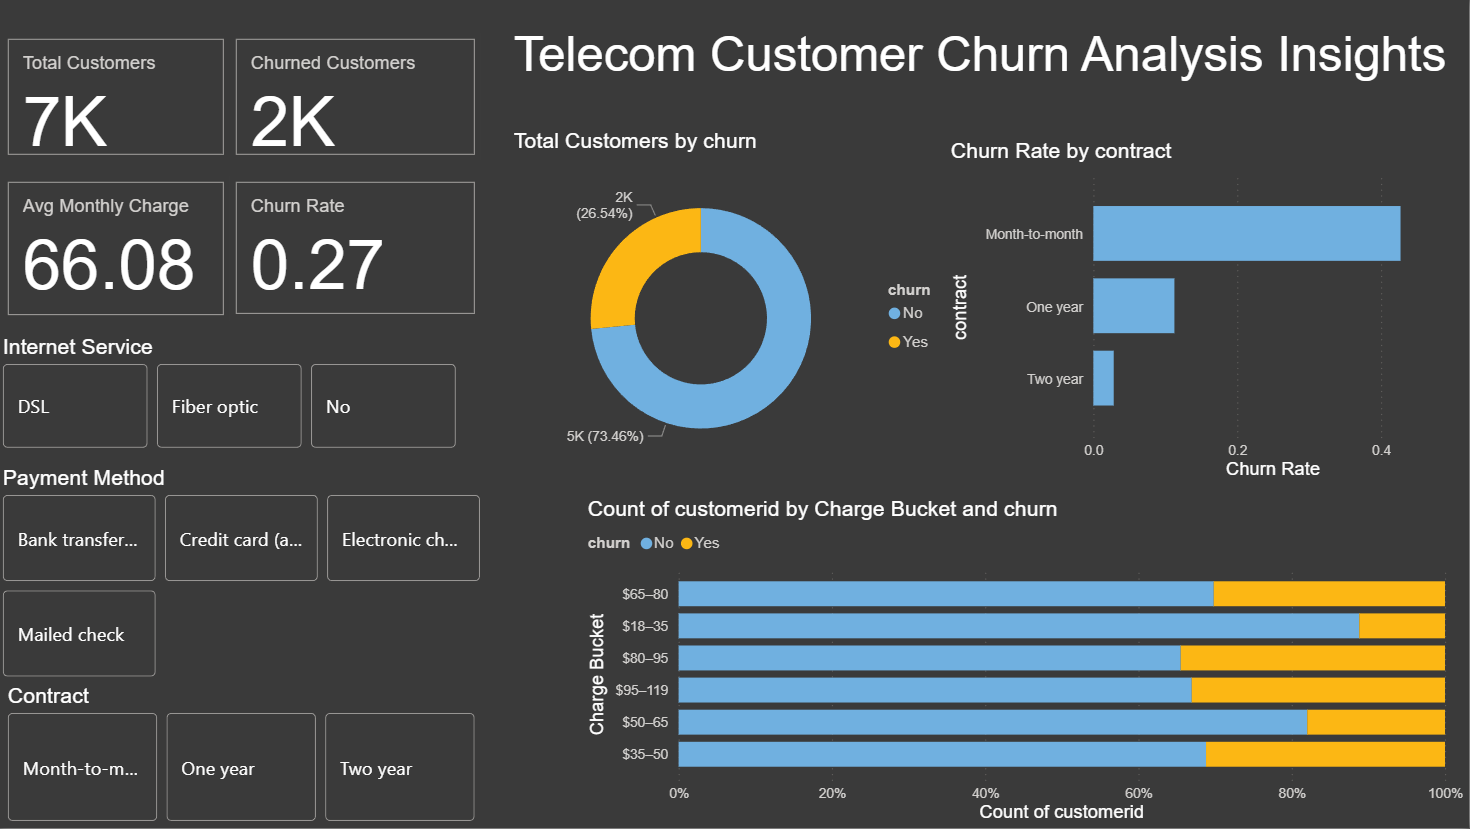

The dashboard page shown, as its layout file describes it:
{"tool":"powerbi","page":{"name":"Page 1","canvas":[1280,720],"ordinal":0},"visuals":[{"type":"cardVisual","fields":{"Data":["cleaned_telco_data.Total Customers"]},"box":[4.3,28.6,198.6,111.4],"z":1000},{"type":"cardVisual","fields":{"Data":["cleaned_telco_data.Churn Rate"]},"box":[202.9,152.9,218.6,125.7],"z":2000},{"type":"cardVisual","fields":{"Data":["cleaned_telco_data.Avg Monthly Charge"]},"box":[4,153,198,126],"z":3000},{"type":"donutChart","fields":{"Category":["cleaned_telco_data.churn"],"Y":["cleaned_telco_data.Total Customers"]},"box":[444.3,111.4,391.4,310],"z":4000},{"type":"clusteredBarChart","fields":{"Category":["cleaned_telco_data.contract"],"Y":["cleaned_telco_data.Churn Rate"]},"box":[824.3,120,455.7,301.4],"z":5000},{"type":"advancedSlicerVisual","title":"Contract","fields":{"Values":["cleaned_telco_data.contract"]},"box":[4.3,594.3,417.1,125.7],"z":6000},{"type":"advancedSlicerVisual","title":"Payment Method","fields":{"Values":["cleaned_telco_data.paymentmethod"]},"box":[0,404.3,425.7,190],"z":7000},{"type":"advancedSlicerVisual","title":"Internet Service","fields":{"Values":["cleaned_telco_data.internetservice"]},"box":[0,290,404.3,104.3],"z":8000},{"type":"hundredPercentStackedBarChart","fields":{"Category":["cleaned_telco_data.Charge Bucket"],"Series":["cleaned_telco_data.churn"],"Y":["CountNonNull(cleaned_telco_data.customerid)"]},"box":[508.6,431.4,771.4,288.6],"z":9000},{"type":"textbox","box":[444,17,707,67],"z":9001},{"type":"cardVisual","fields":{"Data":["cleaned_telco_data.Churned Customers"]},"box":[203,29,218,111],"z":9002}]}

Visuals, with their boxes in screenshot pixels (x1, y1, x2, y2), scaled from the page's 1280x720 canvas onto the 1470x829 screenshot:
cardVisual - cleaned_telco_data.Total Customers: bbox=(5, 33, 233, 161)
cardVisual - cleaned_telco_data.Churn Rate: bbox=(233, 176, 484, 321)
cardVisual - cleaned_telco_data.Avg Monthly Charge: bbox=(5, 176, 232, 321)
donutChart - cleaned_telco_data.churn x cleaned_telco_data.Total Customers: bbox=(510, 128, 960, 485)
clusteredBarChart - cleaned_telco_data.contract x cleaned_telco_data.Churn Rate: bbox=(947, 138, 1469, 485)
"Contract" advancedSlicerVisual: bbox=(5, 684, 484, 828)
"Payment Method" advancedSlicerVisual: bbox=(0, 466, 489, 684)
"Internet Service" advancedSlicerVisual: bbox=(0, 334, 464, 454)
hundredPercentStackedBarChart - cleaned_telco_data.Charge Bucket x cleaned_telco_data.churn: bbox=(584, 497, 1469, 828)
textbox: bbox=(510, 20, 1322, 97)
cardVisual - cleaned_telco_data.Churned Customers: bbox=(233, 33, 483, 161)
